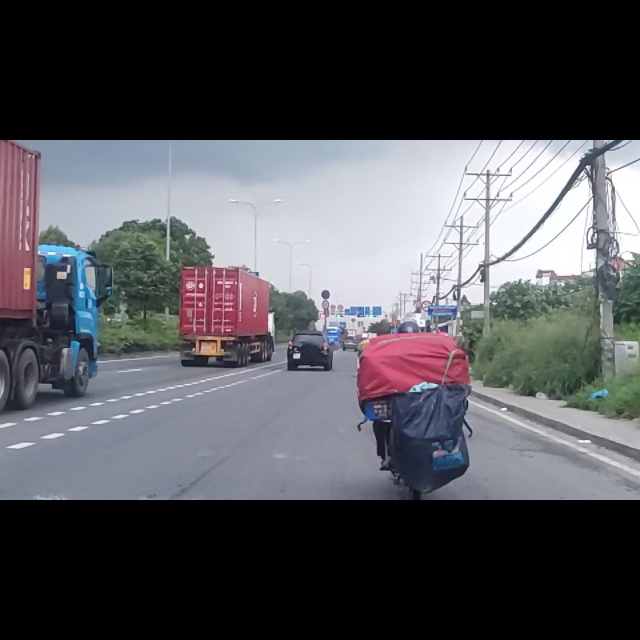bien_chi_dan: (421, 286, 431, 306), (321, 265, 331, 282)
